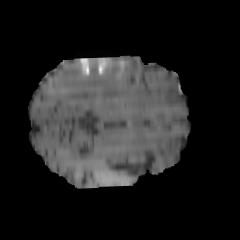glioma: (55, 53, 171, 108)
